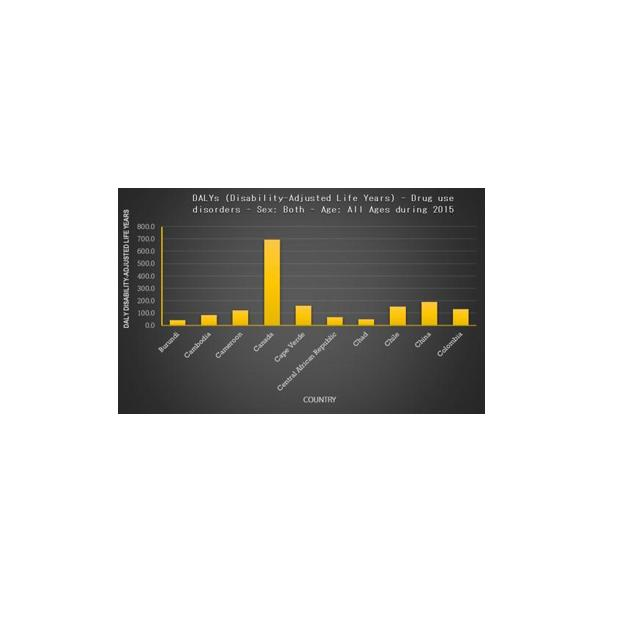Graph: (118, 188, 485, 414)
